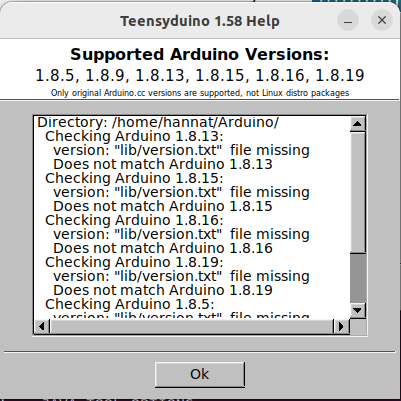bottles: (97, 47, 316, 271)
